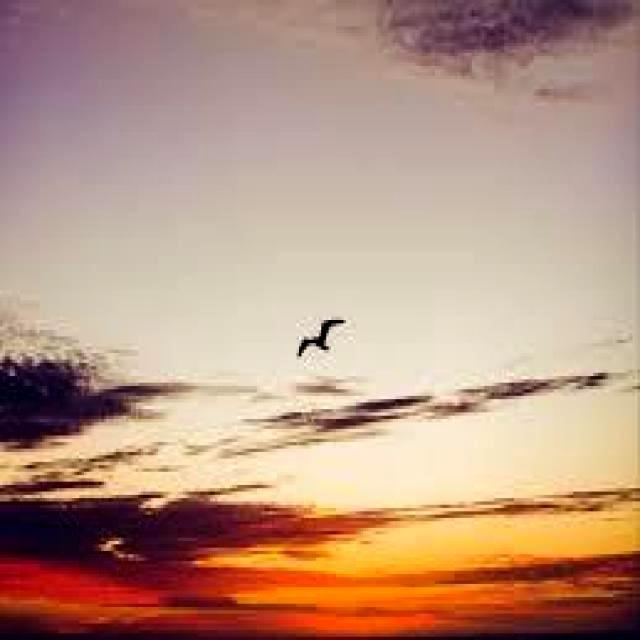bird: (296, 315, 346, 359)
